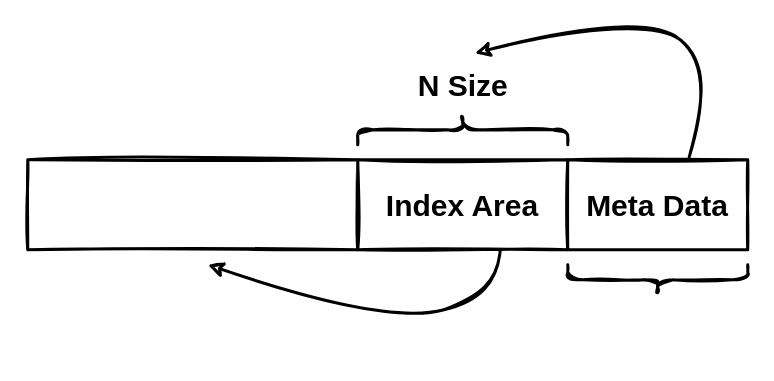
The diagram is 774 pixels wide and 381 high, and some of its shapes have lost their labels. The box of each missing label's shape, as (x1, y1, x2, y2) in pixels:
24 Bit: (566, 262, 748, 296)
Data Area: (26, 158, 358, 250)
